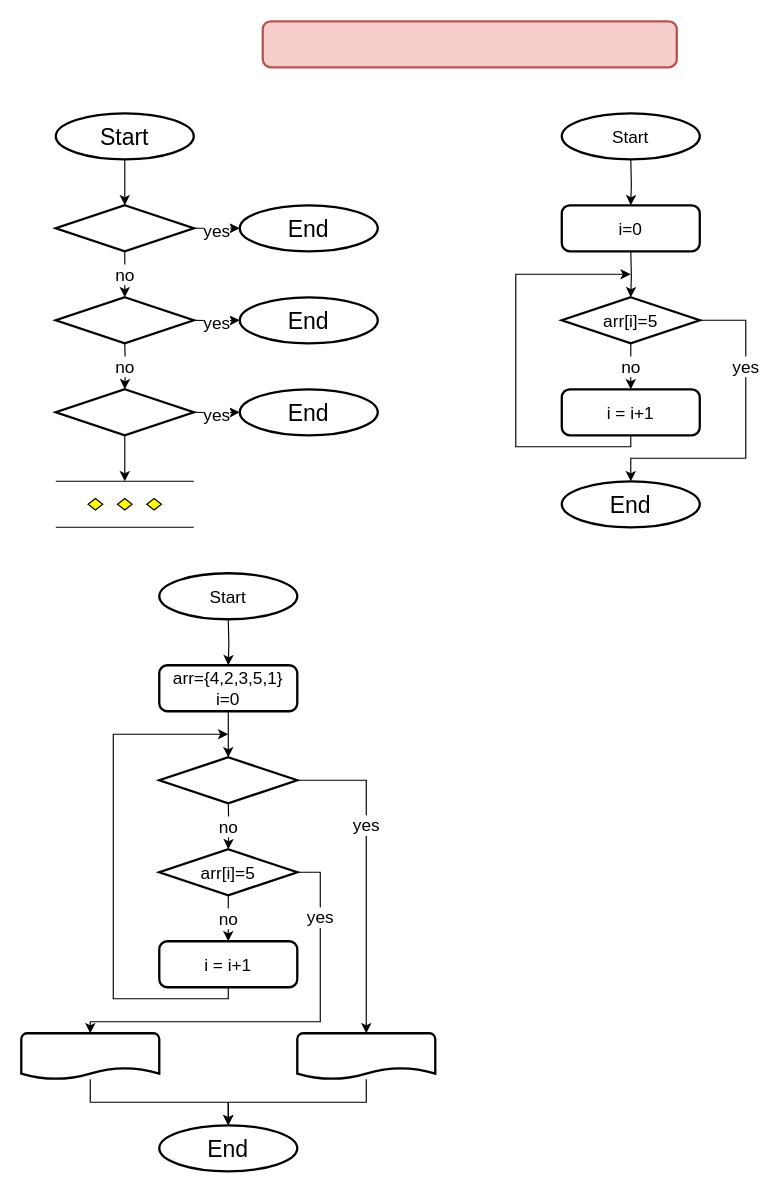
The diagram is 779 pixels wide and 1191 high, and some of its shapes have lost their labels. Each missing label, with the centre of its shape:
"arr[0]=5" belongs at point 124,228.
"arr[1]=5" belongs at point 124,320.
"arr[2]=5" belongs at point 124,412.
"i=arr.length" belongs at point 228,780.
"Linear Search" belongs at point 469,44.
"값을 찾지 못했습니다." belongs at point 366,1056.
"찾은 값은i번째에 있습니다." belongs at point 90,1056.
